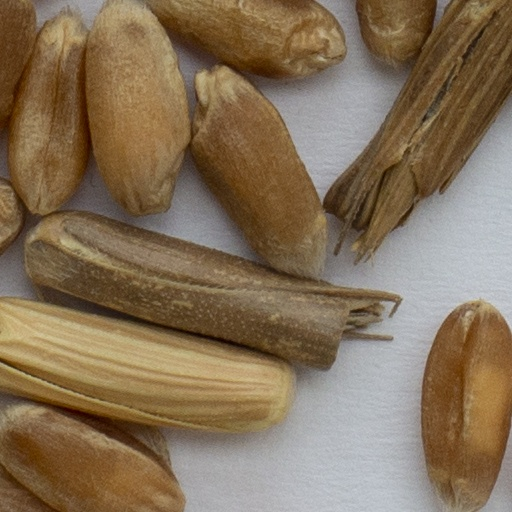Peel-poly: (21, 207, 406, 373), (320, 0, 511, 270), (0, 295, 295, 436)
Wheat-grain-poly: (416, 297, 511, 511), (0, 0, 34, 144)
